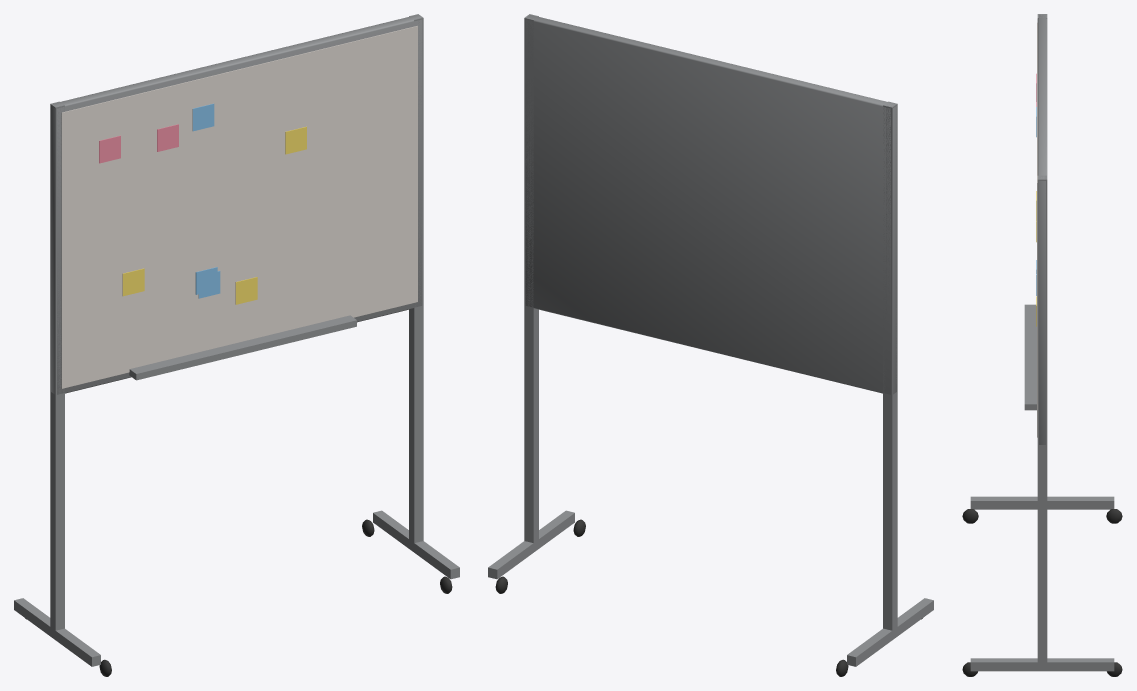
File: tech.mobile-whiteboard.glb
The picture shows the model from 3 angles, left to right: view 1: azimuth 30°, elevation 25°; view 2: azimuth 150°, elevation 25°; view 3: azimuth 270°, elevation 25°; orthographic projection. The views are drawn at different scales.
Visible parts, largest first — view 1: tech.mobile-whiteboard.001; view 2: tech.mobile-whiteboard.001; view 3: tech.mobile-whiteboard.001.
Part boxes in pixels (left/top/right/bottom): tech.mobile-whiteboard.001: left=14, top=14, right=459, bottom=676; tech.mobile-whiteboard.001: left=488, top=14, right=933, bottom=676; tech.mobile-whiteboard.001: left=962, top=14, right=1122, bottom=676.
Bounding box in the file's own units: 1.2 × 1.7 × 0.49.
